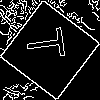T: (25, 25, 75, 62)
